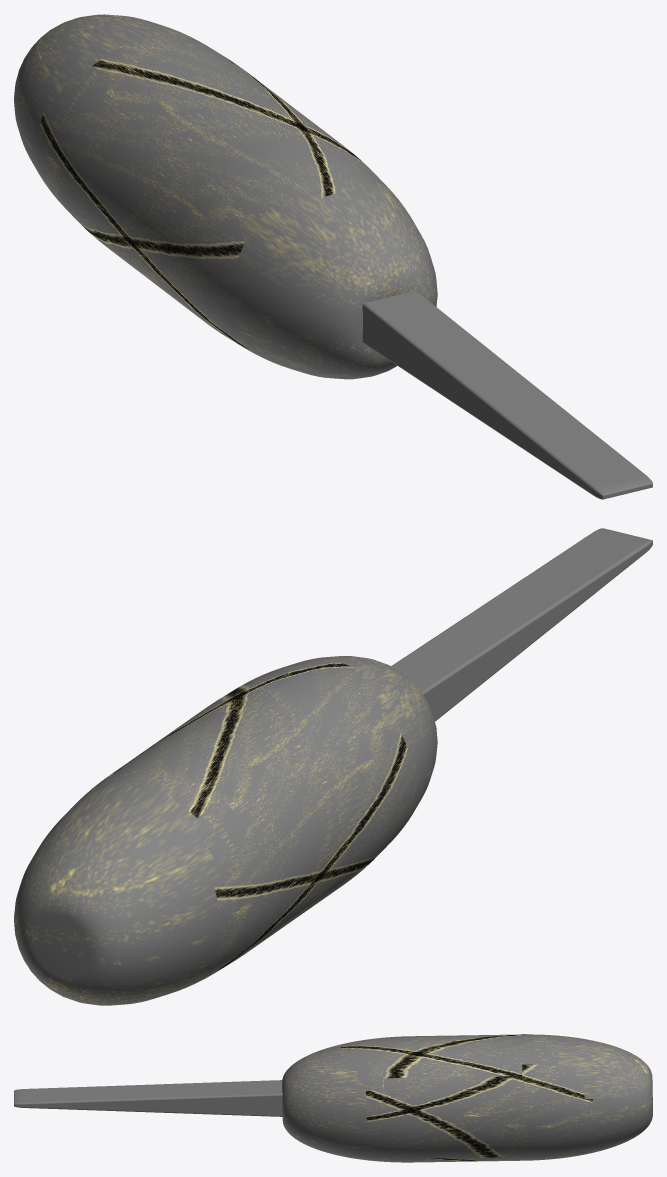
Rendered from screwdriver.fbx.
3 views of the same model, one above another, from view 1: azimuth 30°, elevation 25°; view 2: azimuth 150°, elevation 25°; view 3: azimuth 270°, elevation 25° (orthographic). The views are drawn at different scales.
Parts seen in each view (by area): view 1: Cube; view 2: Cube; view 3: Cube.
Part boxes in pixels (<box>): Cube: <box>14,14,652,499</box>; Cube: <box>14,528,652,1005</box>; Cube: <box>14,1034,652,1162</box>.
Size of the model in its own units: 118 by 120 by 596.
Materials: 1 (1 with a texture image).
